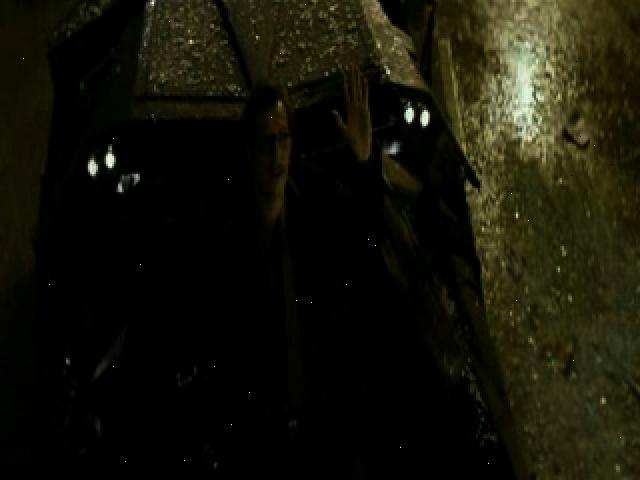L: (111, 81, 385, 480)
